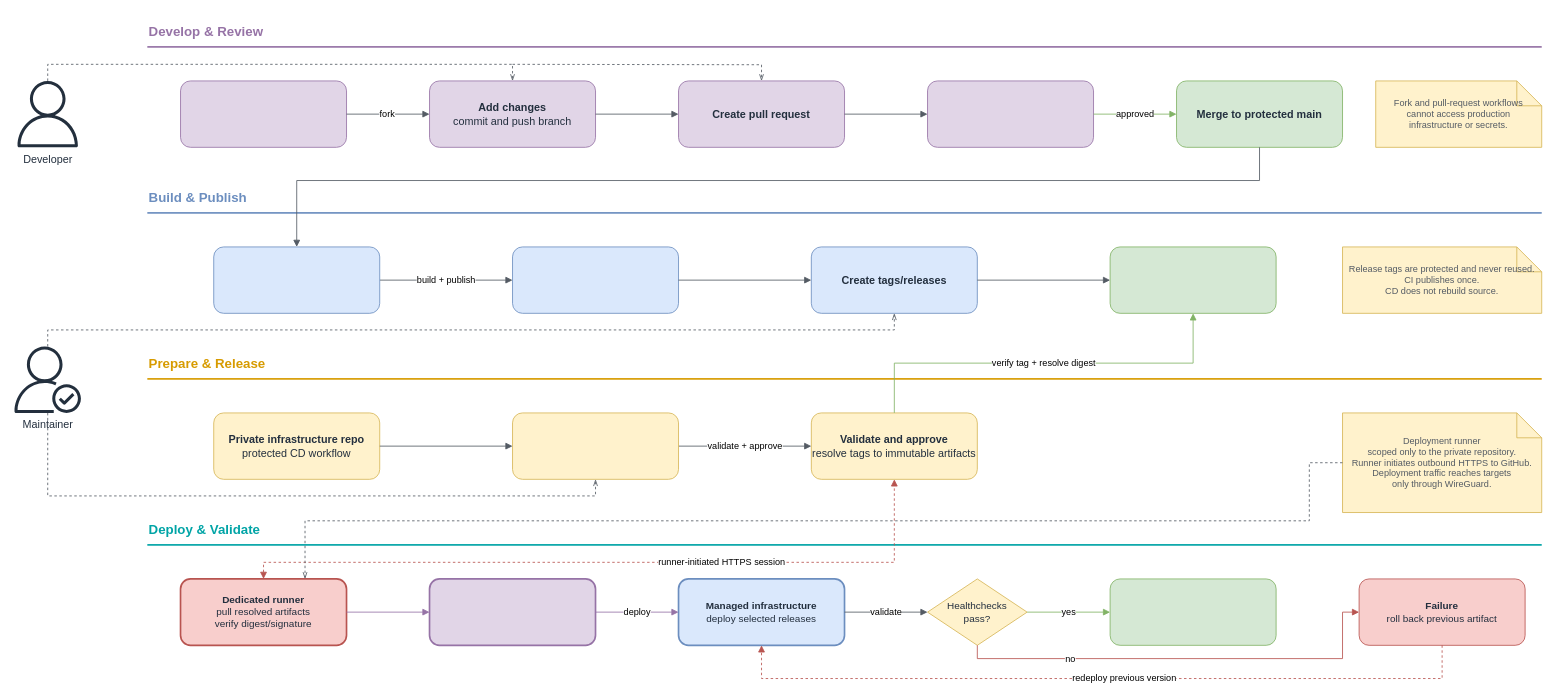
This 1556x700 diagram has some shape labels left out. Here are the shapes that lost their labels. From the top down, the centre of each, then its label:
At point (263, 113): "Public source repositories".
At point (1010, 113): "Review and PR checks GitHub-hosted runner".
At point (296, 279): "Main-branch GitHub CI build, test, scan, sign".
At point (595, 279): "Immutable artifacts digest/checksum".
At point (1192, 279): "Tagged artifacts".
At point (595, 445): "Run CD workflow select services + release tags".
At point (512, 612): "WireGuard private deployment tunnel".
At point (1192, 611): "Success record service + tag + digest".
